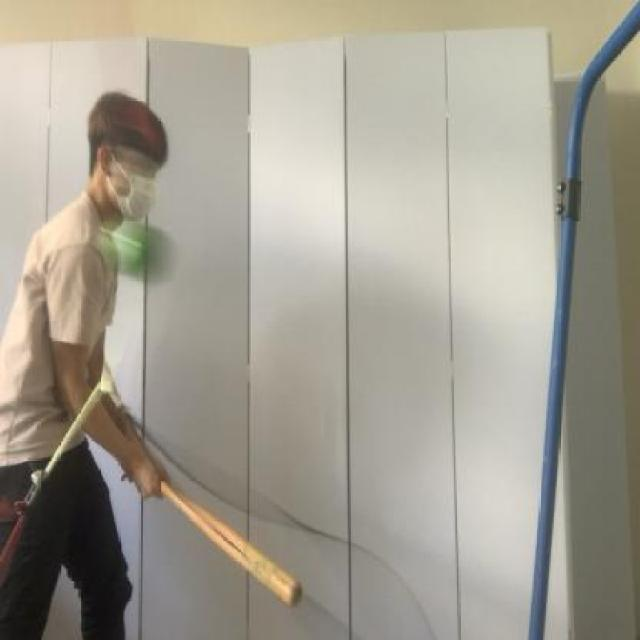baseball: (100, 211, 175, 289)
